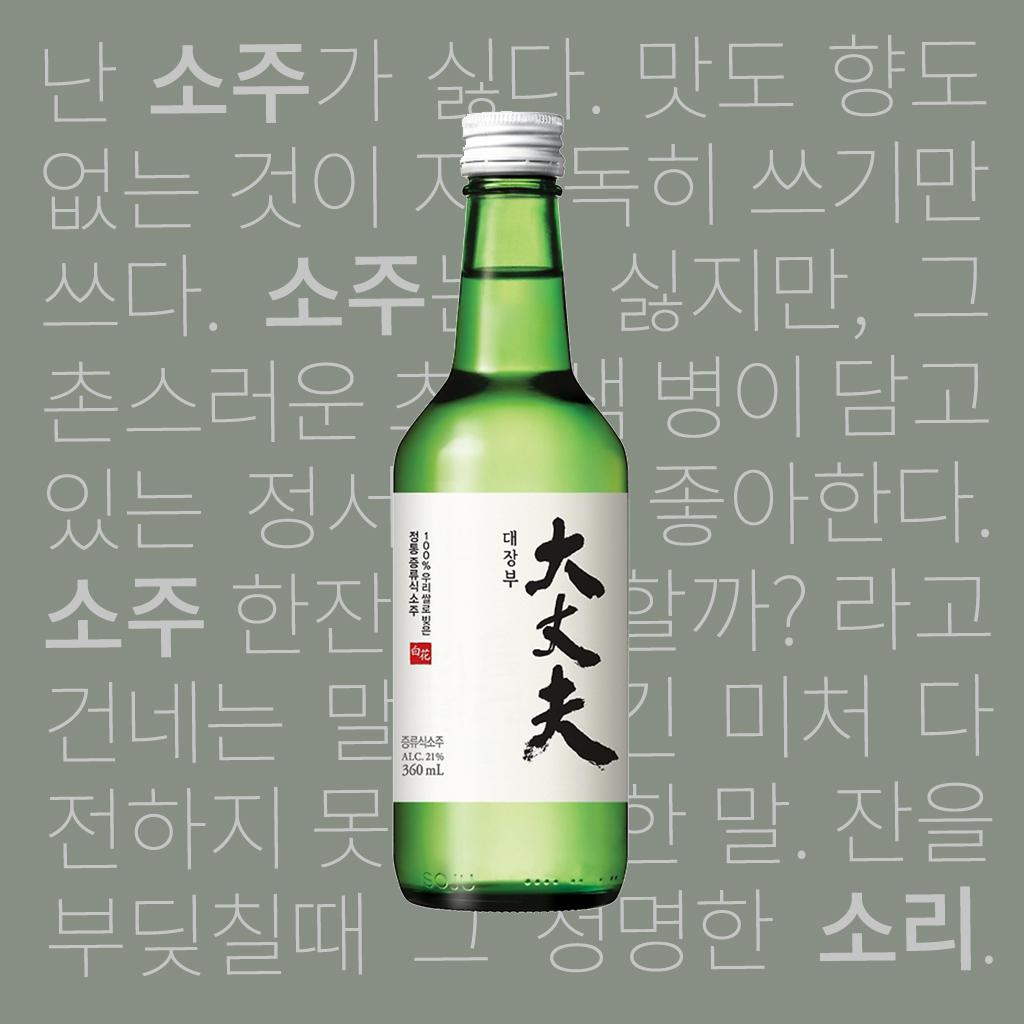soju: (384, 105, 637, 920)
